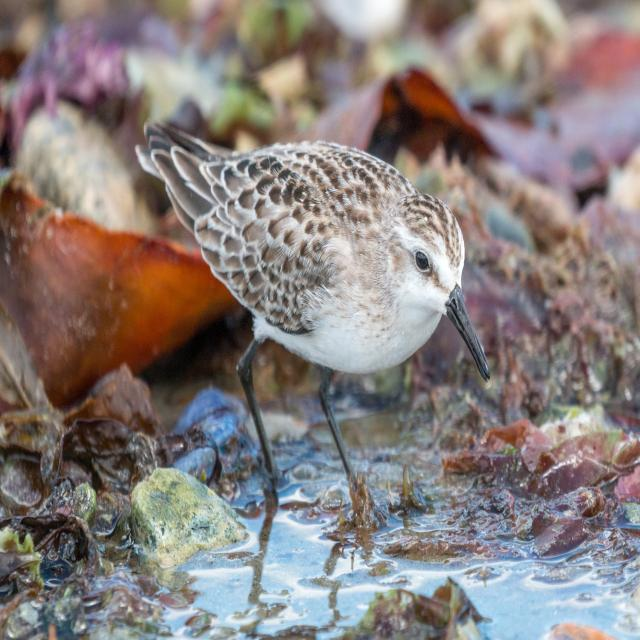Sandpiper: (138, 114, 566, 522)
